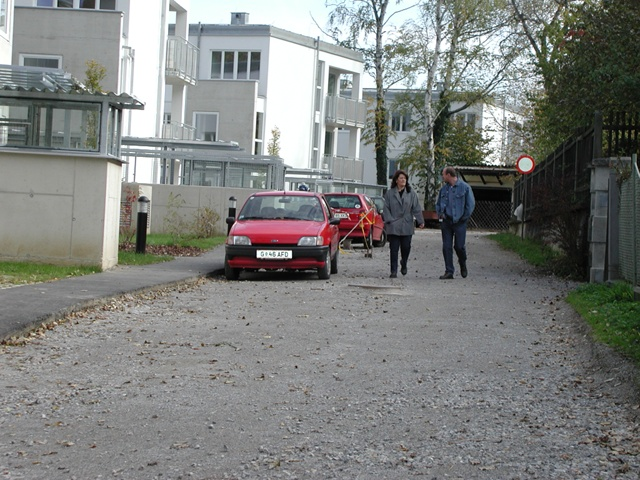person: (435, 165, 477, 283), (383, 169, 422, 277)
